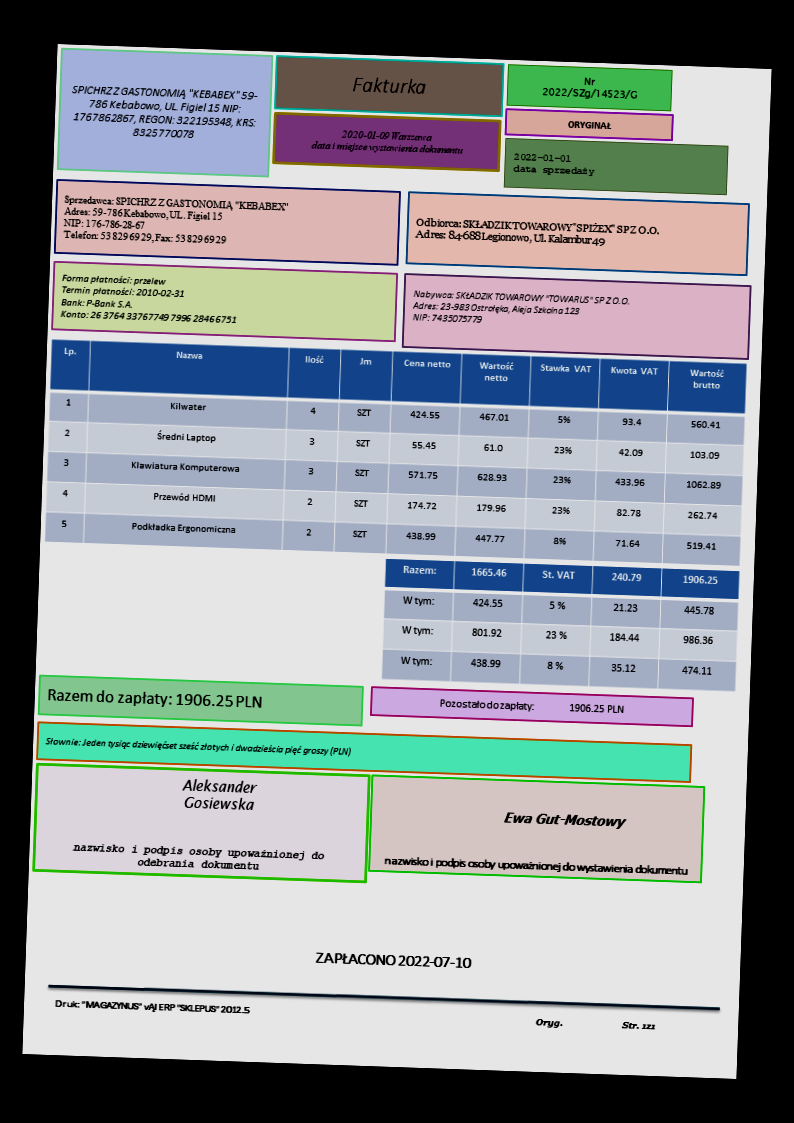Table: (43, 338, 748, 568), (380, 558, 740, 692)
TextBox: (61, 191, 292, 249), (65, 81, 260, 145), (57, 271, 240, 326), (409, 287, 631, 331), (411, 214, 660, 250), (70, 840, 325, 875), (381, 853, 689, 879), (44, 734, 353, 758), (45, 685, 264, 712), (310, 127, 465, 157), (312, 948, 473, 973), (51, 997, 252, 1017), (438, 696, 624, 716), (501, 808, 629, 833), (179, 776, 262, 814), (539, 73, 640, 102), (511, 150, 597, 179), (532, 1015, 658, 1033), (349, 75, 427, 98), (564, 118, 613, 131)
